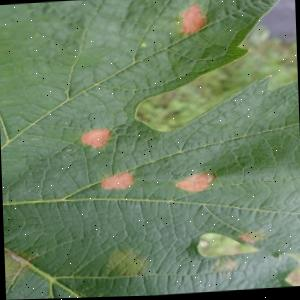Folha: (0, 0, 300, 300)
Fungo: (195, 231, 260, 260), (178, 5, 207, 36), (174, 173, 216, 194), (99, 172, 134, 192), (80, 129, 111, 150), (211, 258, 238, 275), (238, 230, 266, 245)
